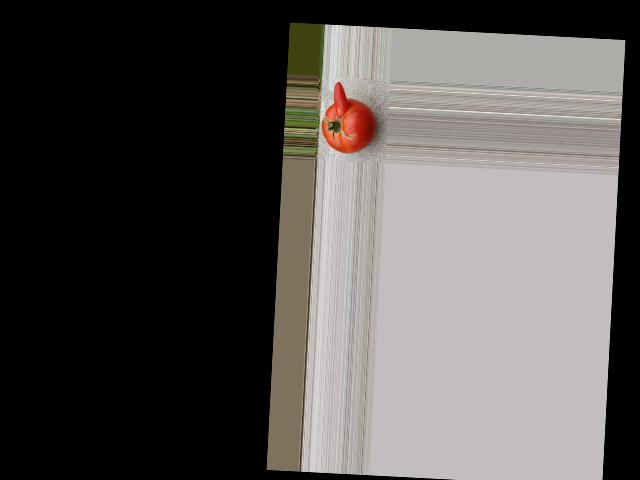tomato: (320, 97, 376, 155)
